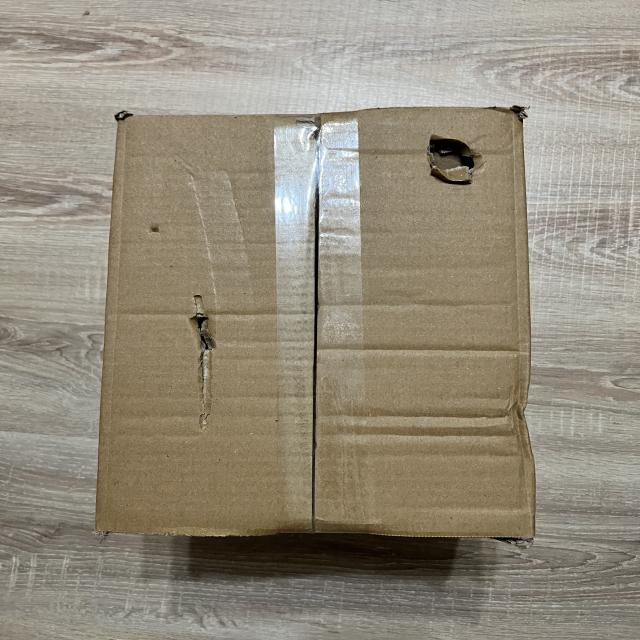damaged: (97, 100, 552, 547), (172, 287, 237, 442), (415, 122, 488, 202), (142, 214, 167, 245)
